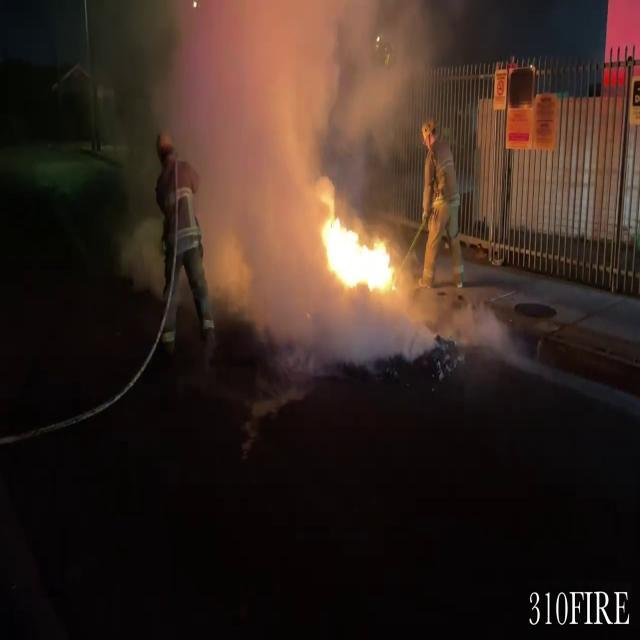Fire: (316, 208, 401, 300)
Smoke: (123, 1, 453, 343)
